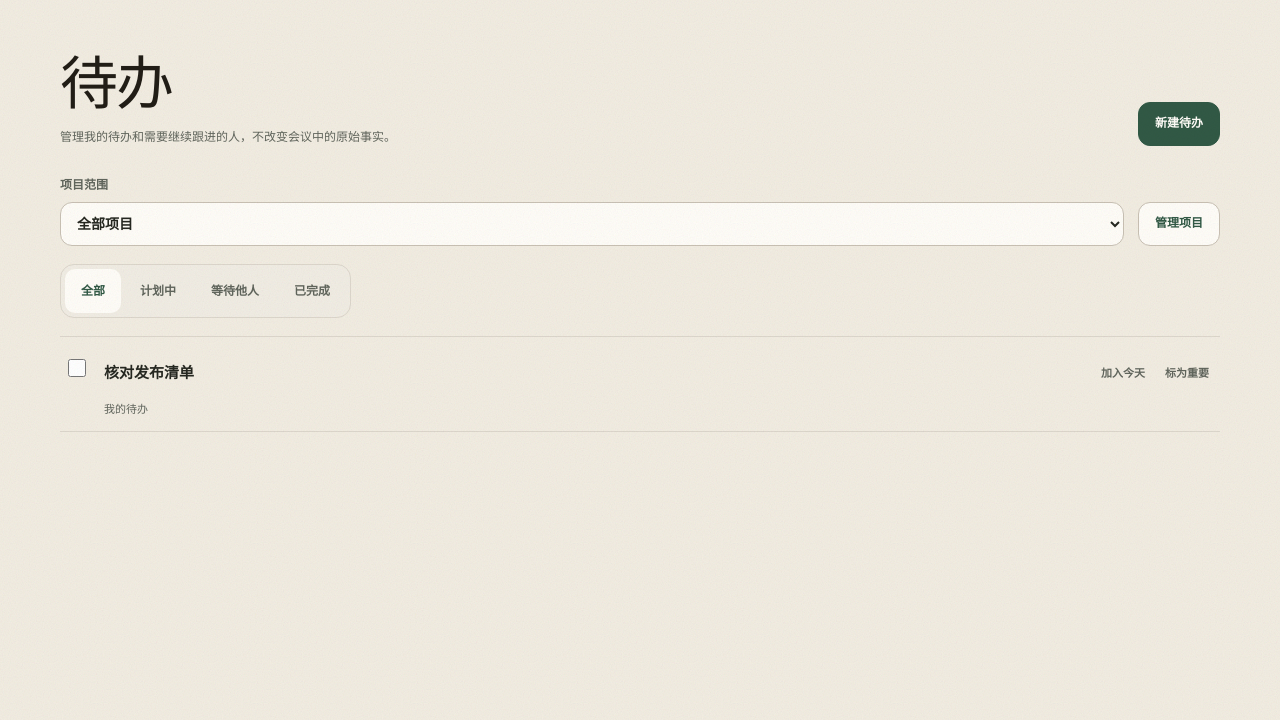
Test case: Work Review Todo UI › saves a title from the project-enabled list form through the strict PATCH and reopens it
Step 1. Click the button "核对发布清单" → x=149, y=372, box [104,351,1082,395]
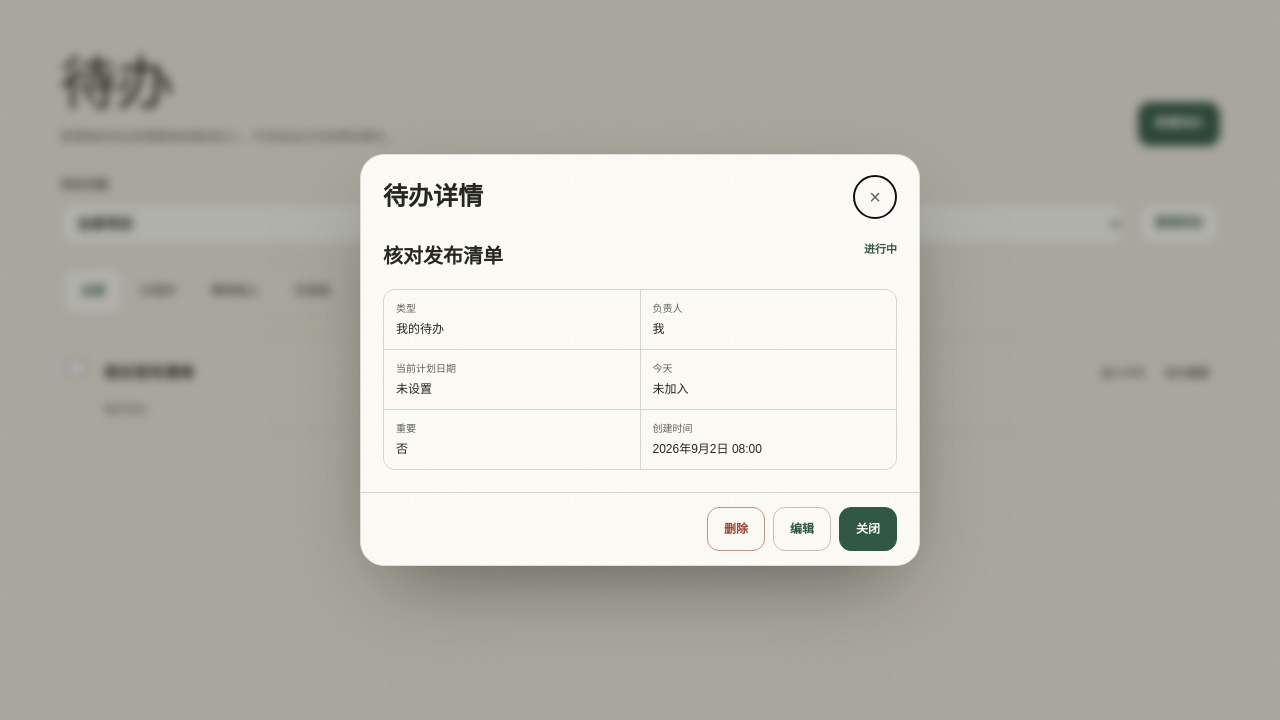
Step 2. Click the button "编辑" → x=802, y=529, box [773,507,831,551]
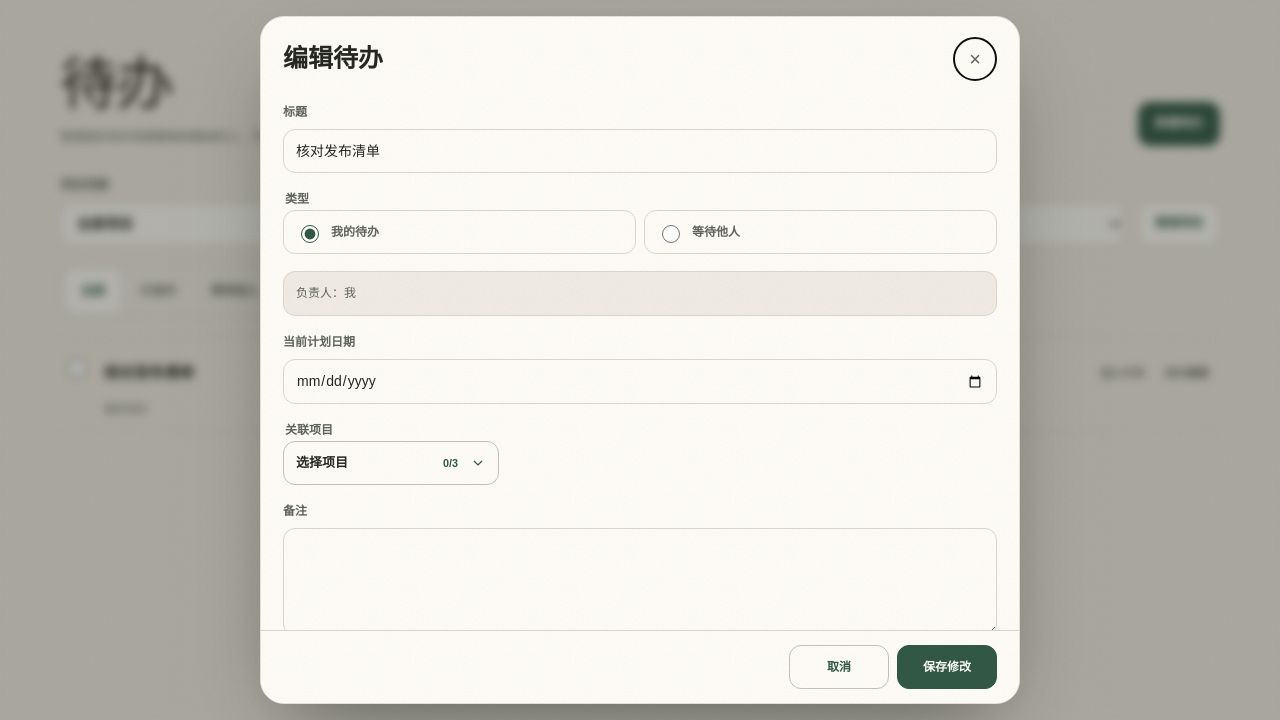
Step 3. Replace the text in the field labelled "标题" with "标题已修改" → x=640, y=151, box [283,129,997,173]
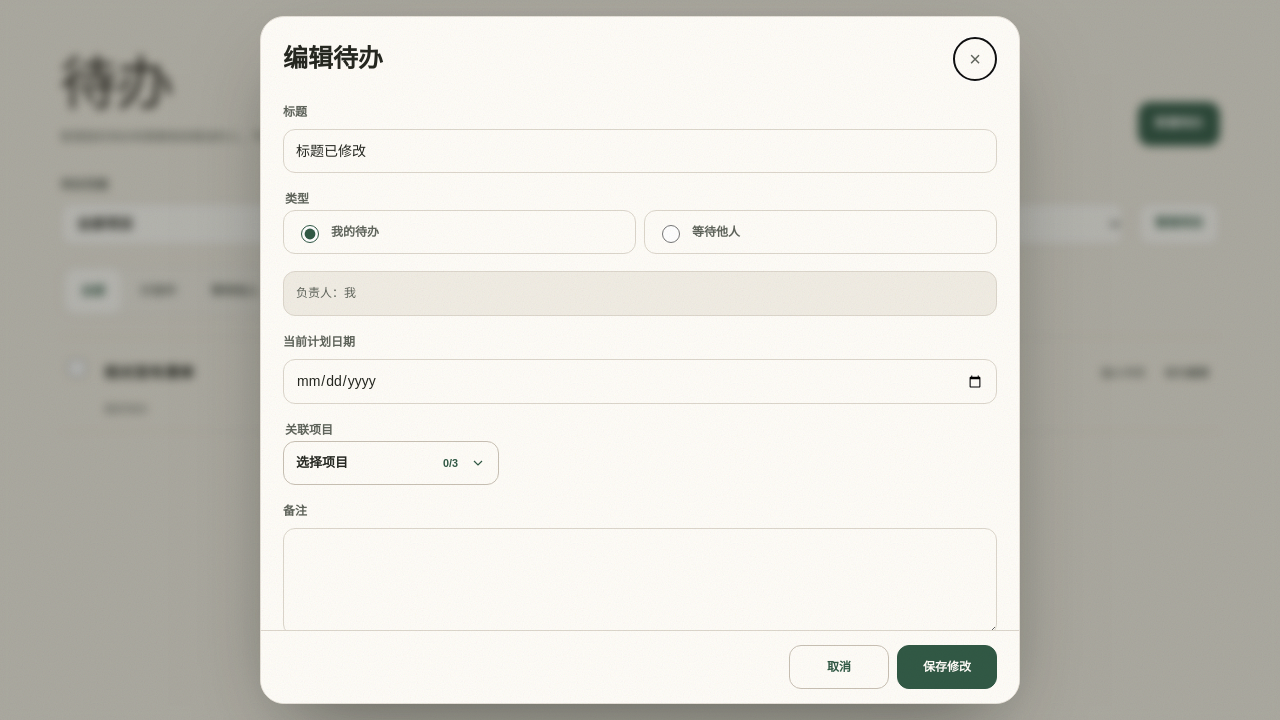
Step 4. Click the button "保存修改" → x=947, y=667, box [897,645,997,689]
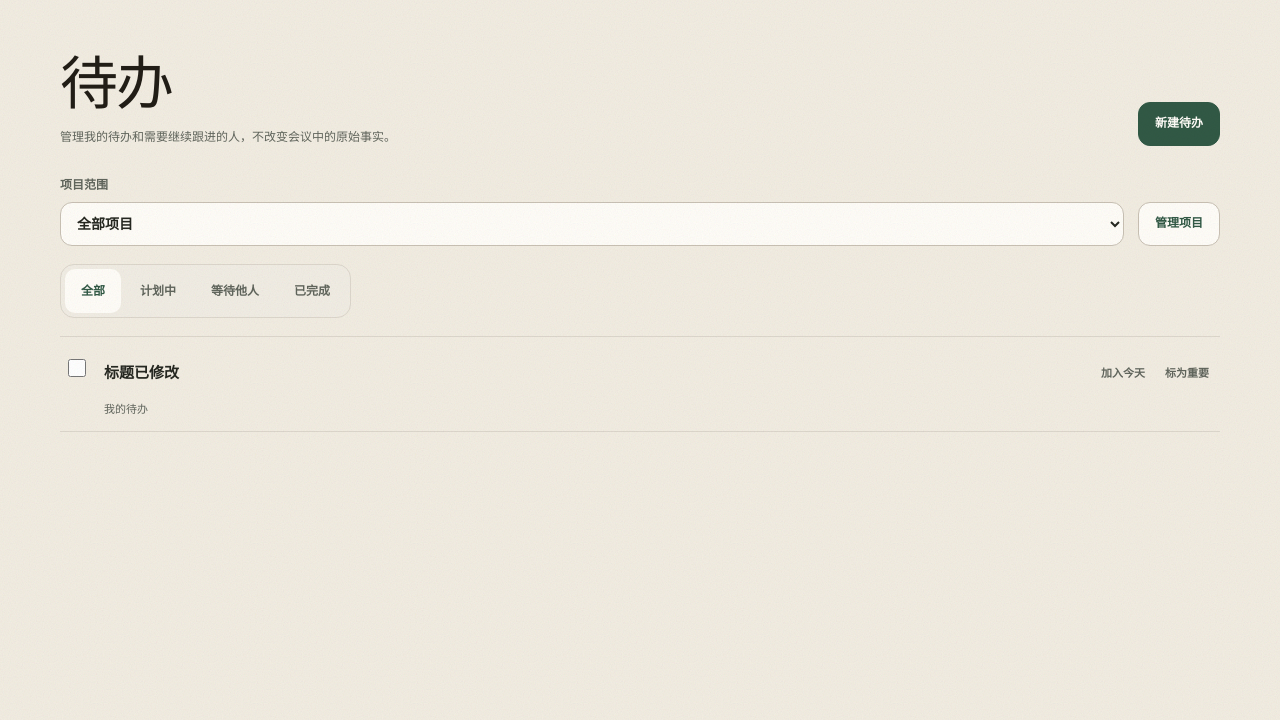
Check: the heading "编辑待办" is gone
Step 5. Click the button "标题已修改" → x=142, y=372, box [104,351,1082,395]
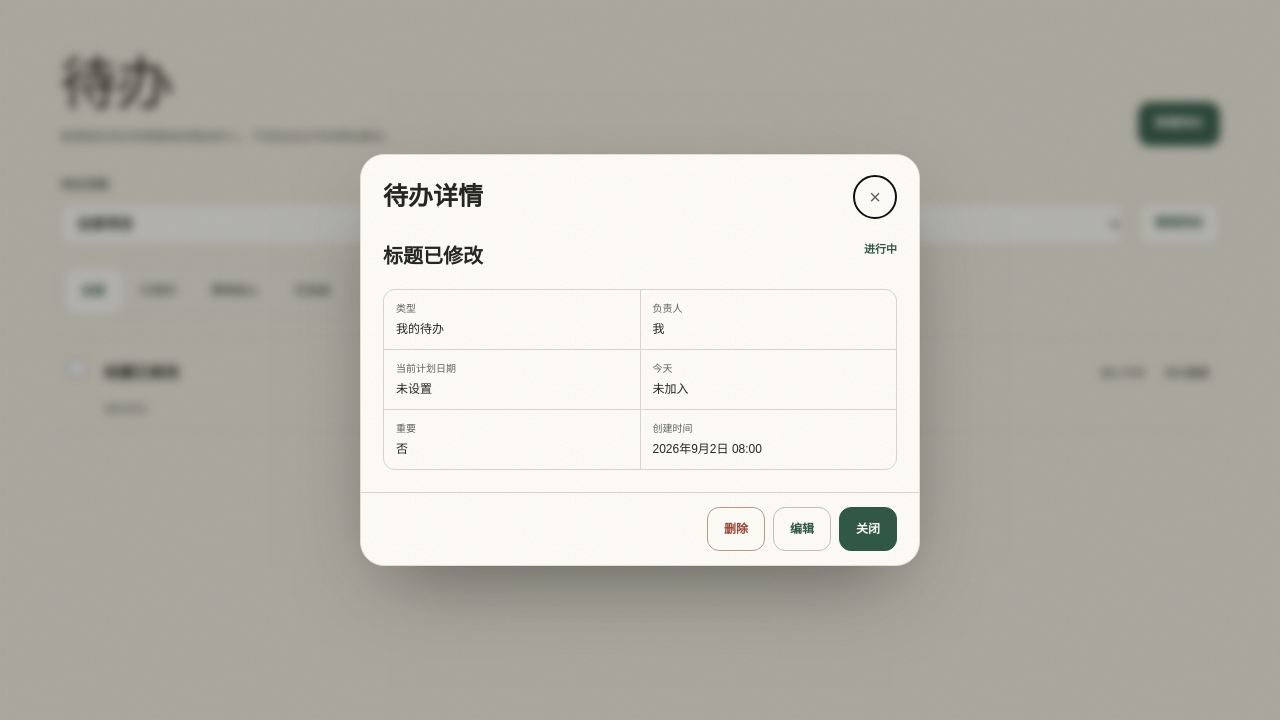
Check: the heading "标题已修改" is shown, box [383,241,483,271]
